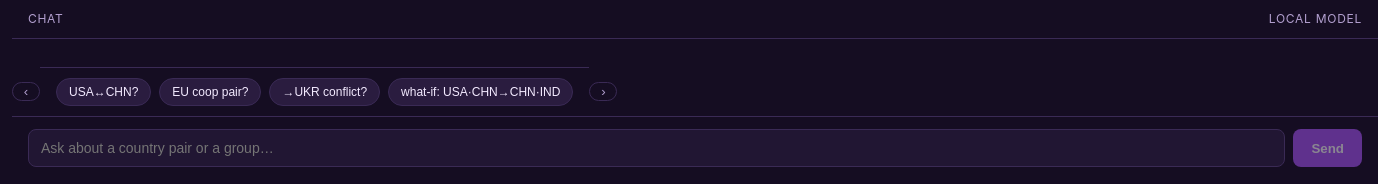
Scenario: ExampleChips (plans/05 §8.3) › clicking a chip fills the input value
The image size is (1378, 184).
Click the button with test id "chip-0" at (104, 92), box [56,78,151,106]
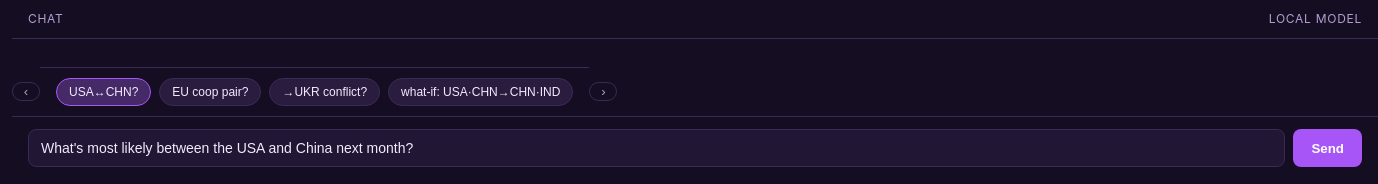
Result: the field with test id "chat-input" holds "What's most likely between the USA and China next month?" at [28,129,1285,167]
